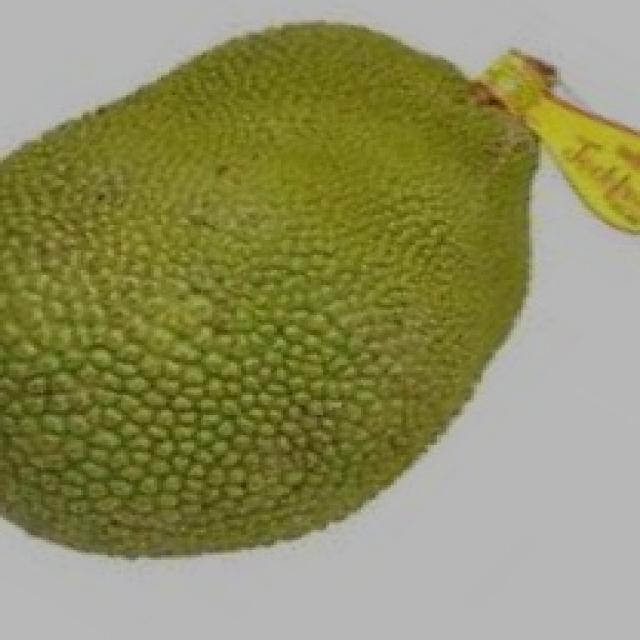Fruit: (231, 0, 591, 448), (0, 215, 409, 593), (0, 2, 400, 348)
